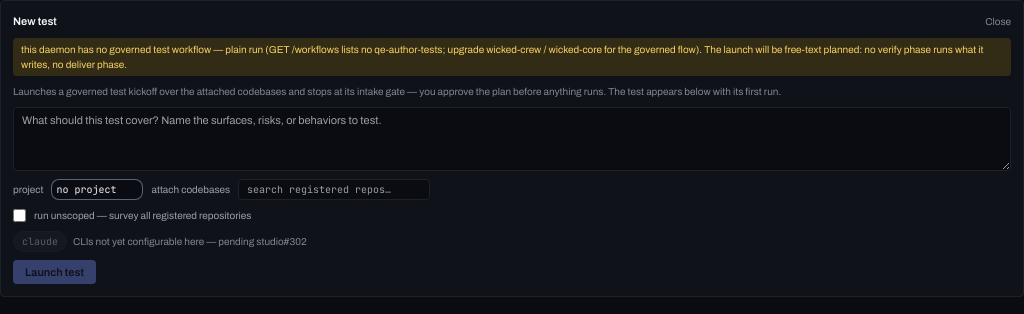
Test: T30 — every rendered word on the Test surfaces says Test (#203) › T30 — the launch panel's fan-out copy (the no-label arm)
In the text box with test id "testing-launch-instructions": coordinates (512, 138) [13,106,1011,170], type "Smoke it"
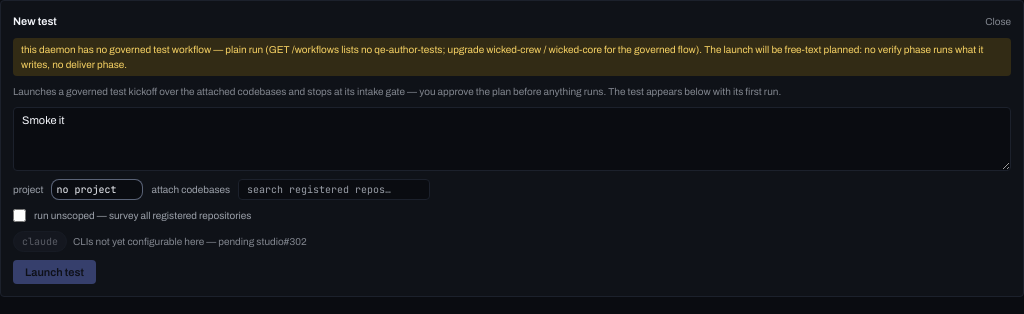
Click the checkbox with test id "testing-launch-unscoped": coordinates (20, 215) [13,208,26,222]
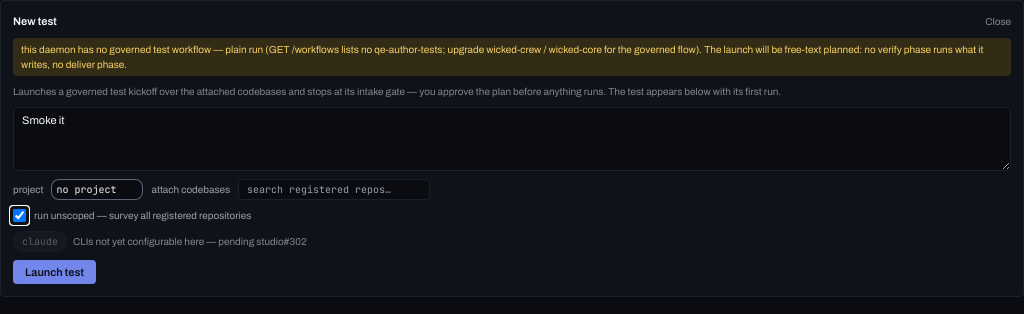
Click the button with test id "testing-launch-submit": coordinates (54, 272) [13,260,96,284]
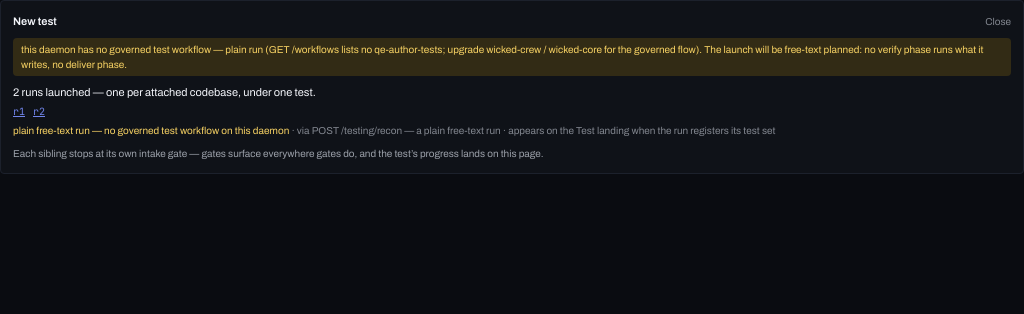
Expected: the element with test id "testing-launch-fanout" shows "2 runs launched — one per attached codebase, under one test", [13,86,776,136]
